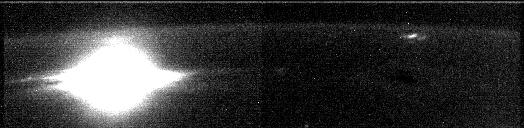negative: (101, 34, 136, 46)
